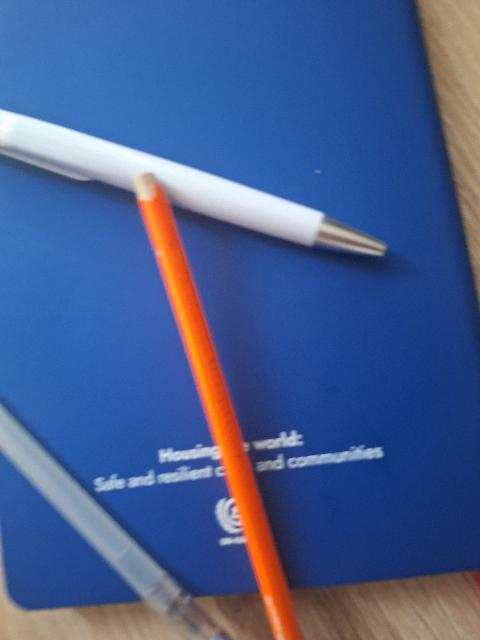writing_tool: (129, 171, 307, 640), (0, 106, 391, 264), (2, 394, 249, 640)
